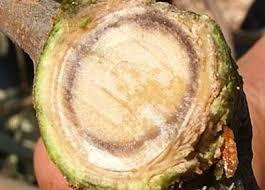Verticillium wilt: (61, 11, 198, 125)
